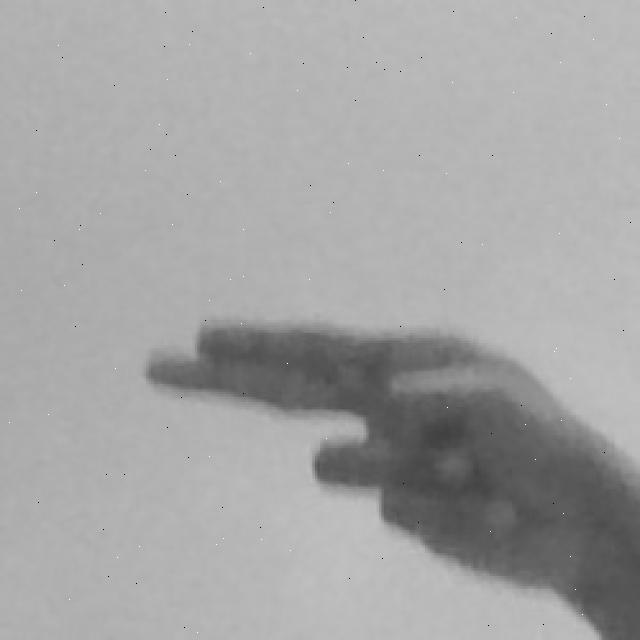H: (135, 311, 640, 639)
